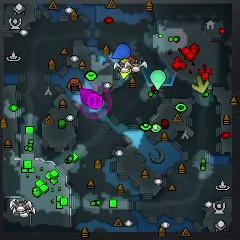Other: (88, 94, 102, 110)
p1: (112, 44, 131, 60)
p2: (150, 69, 166, 91)
p3: (79, 87, 96, 106)
p4: (119, 59, 132, 79)
p5: (129, 56, 137, 74)
x2: (192, 75, 210, 95)
